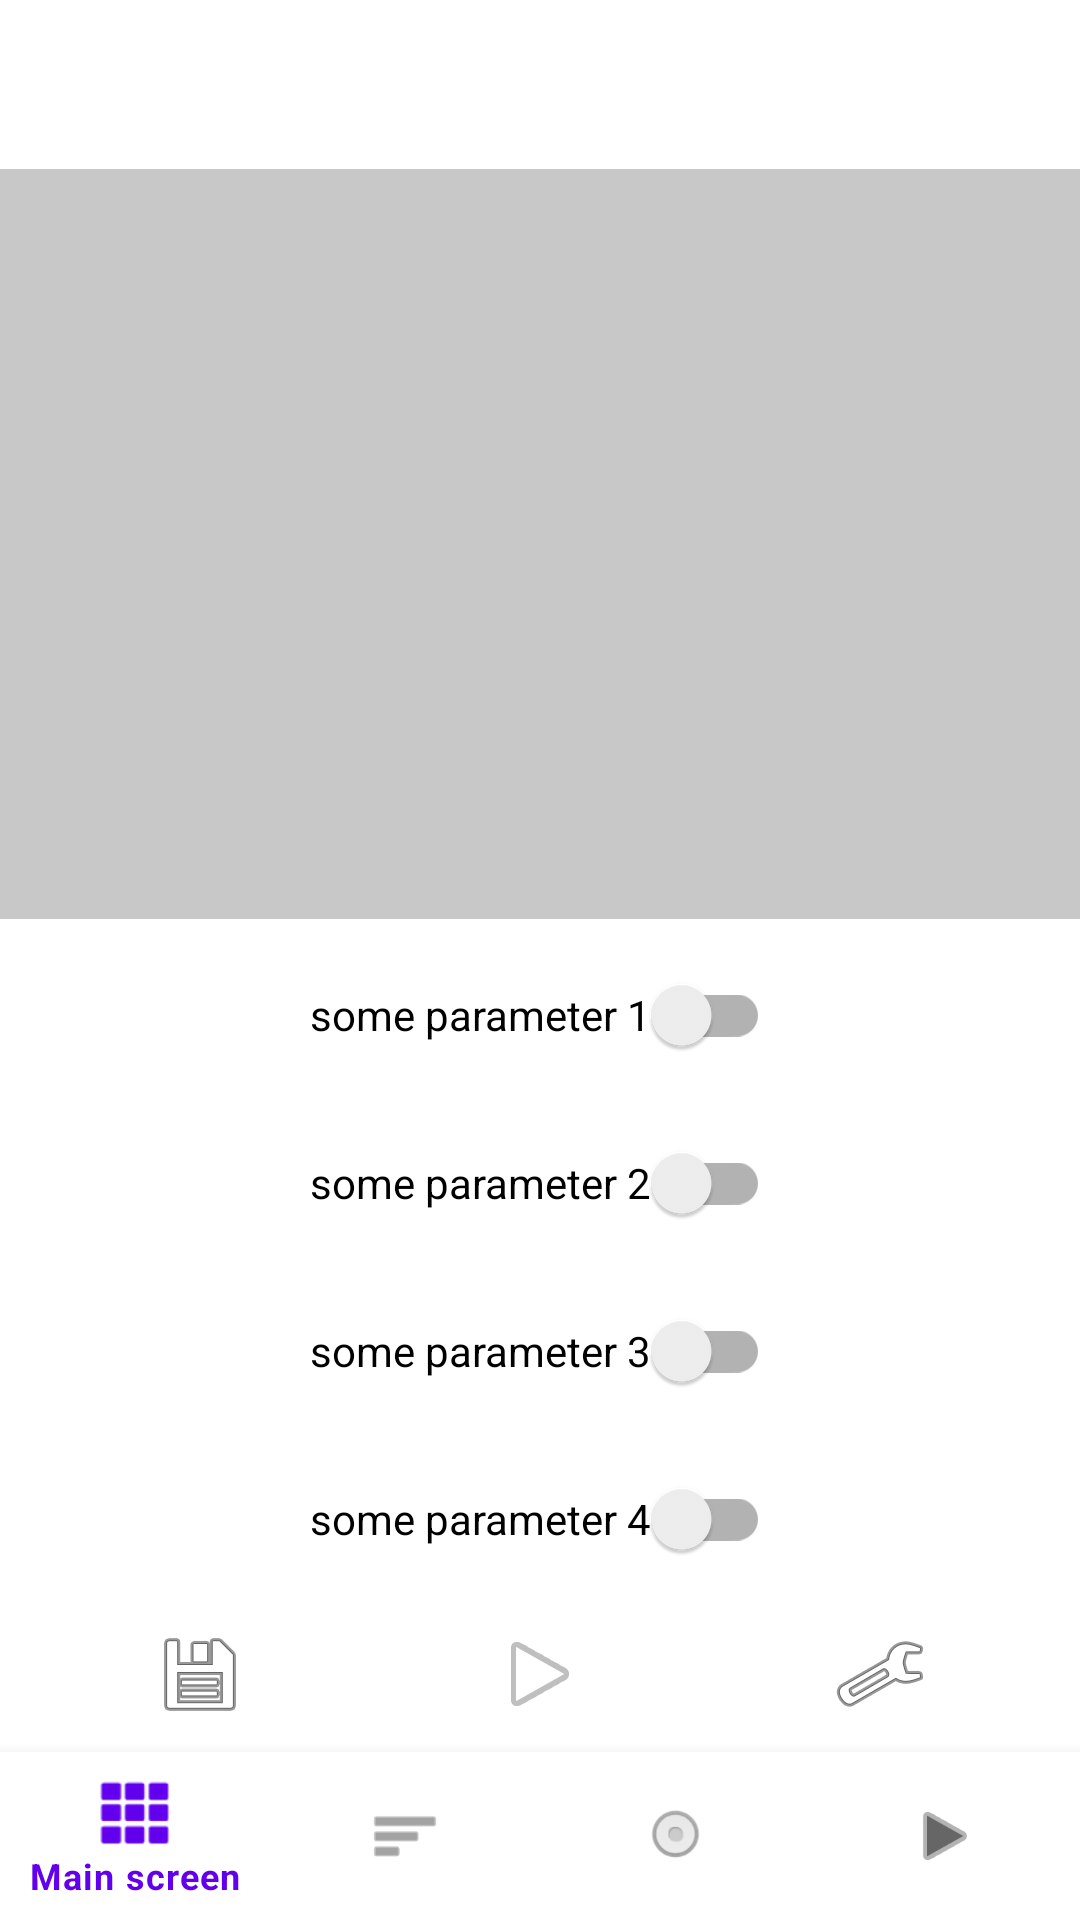

Icons on this 1080px×1920px Android screen, each with its box as {"left": x1, "top": y1, "right": x2, "bottom": y2}:
Настройки: {"left": 837, "top": 1641, "right": 923, "bottom": 1707}
Прослушать: {"left": 511, "top": 1642, "right": 569, "bottom": 1706}
Сохранить: {"left": 164, "top": 1638, "right": 236, "bottom": 1711}
